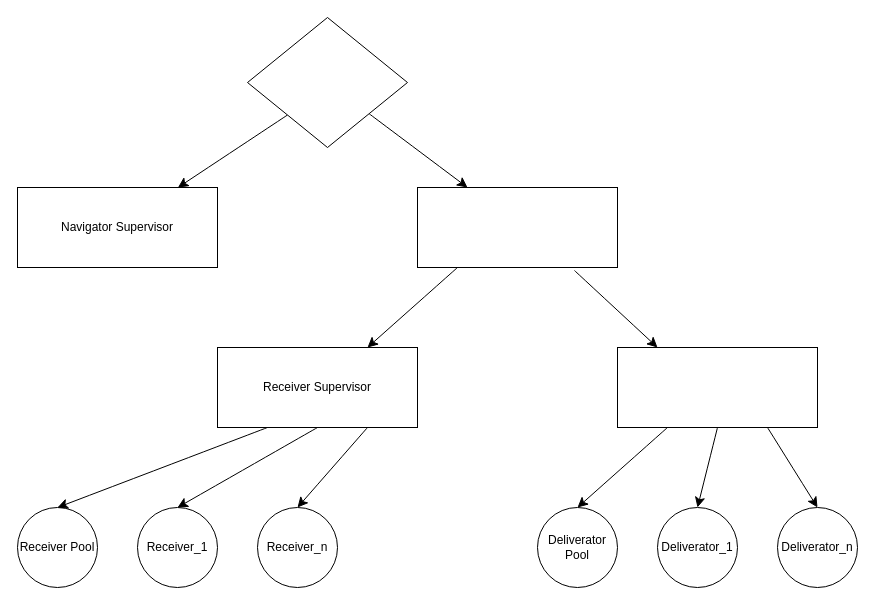
Image size: 875x605. Some labels were removed from this diagram. The box of each missing label's shape, as (x1, y1, x2, y2) in pixels:
Deliverator Supervisor: (616, 346, 818, 428)
Overmind Supervisor: (246, 16, 408, 148)
Warehouse Supervisor: (416, 186, 618, 268)
